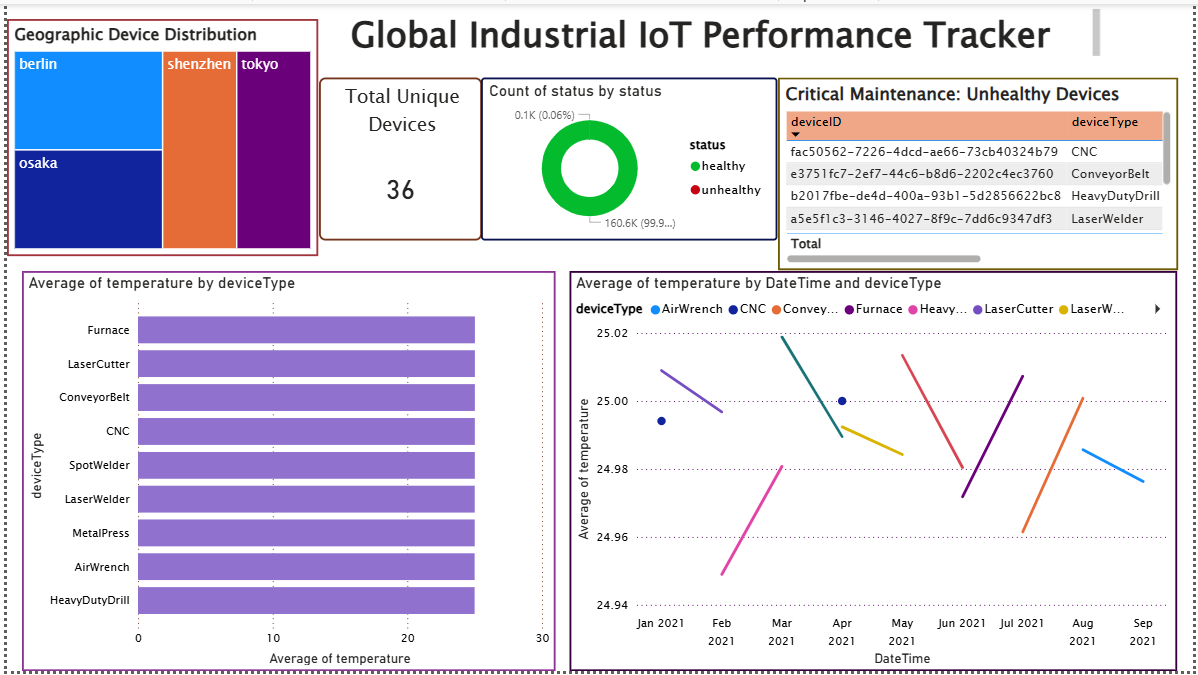

Layout of this report page (visuals, bound fields, positions):
{"tool":"powerbi","page":{"name":"Page 1","canvas":[1280,720],"ordinal":0},"visuals":[{"type":"card","title":"Total Unique Devices","fields":{"Values":["Count(daikibo-telemetry-data.deviceID)"]},"box":[336,80,176,176],"z":0},{"type":"donutChart","fields":{"Category":["daikibo-telemetry-data.status"]},"box":[176,336,288,160],"z":1000},{"type":"clusteredBarChart","fields":{"Category":["daikibo-telemetry-data.deviceType"],"Y":["Avg(daikibo-telemetry-data.temperature)"]},"box":[16,288,576,432],"z":2000},{"type":"lineChart","fields":{"Y":["Avg(daikibo-telemetry-data.temperature)"],"Series":["daikibo-telemetry-data.deviceType"],"Category":["daikibo-telemetry-data.English_Date"]},"box":[608,288,656,432],"z":3000},{"type":"textbox","box":[320,0,864,64],"z":4000},{"type":"treemap","title":"Geographic Device Distribution","fields":{"Group":["daikibo-telemetry-data.city","daikibo-telemetry-data.country"],"Values":["Count(daikibo-telemetry-data.deviceID)"]},"box":[0,16,336,256],"z":5000},{"type":"donutChart","fields":{"Category":["daikibo-telemetry-data.status"],"Y":["CountNonNull(daikibo-telemetry-data.status)"]},"box":[512,80,320,176],"z":6000},{"type":"tableEx","title":"Critical Maintenance: Unhealthy Devices","fields":{"Values":["daikibo-telemetry-data.deviceID","daikibo-telemetry-data.deviceType","Sum(daikibo-telemetry-data.temperature)","daikibo-telemetry-data.factory","daikibo-telemetry-data.status"]},"box":[832,80,432,208],"z":7000}]}

Visuals, with their boxes in screenshot pixels (x1, y1, x2, y2), scaled from the page's 1280x720 canvas onto the 1198x675 screenshot:
"Total Unique Devices" card: pyautogui.locateOnScreen(314, 75, 479, 240)
donutChart - daikibo-telemetry-data.status: pyautogui.locateOnScreen(165, 315, 434, 465)
clusteredBarChart - daikibo-telemetry-data.deviceType x Avg(daikibo-telemetry-data.temperature): pyautogui.locateOnScreen(15, 270, 554, 674)
lineChart - Avg(daikibo-telemetry-data.temperature) x daikibo-telemetry-data.deviceType: pyautogui.locateOnScreen(569, 270, 1183, 674)
textbox: pyautogui.locateOnScreen(300, 0, 1108, 60)
"Geographic Device Distribution" treemap: pyautogui.locateOnScreen(0, 15, 314, 255)
donutChart - daikibo-telemetry-data.status x CountNonNull(daikibo-telemetry-data.status): pyautogui.locateOnScreen(479, 75, 779, 240)
"Critical Maintenance: Unhealthy Devices" tableEx: pyautogui.locateOnScreen(779, 75, 1183, 270)
